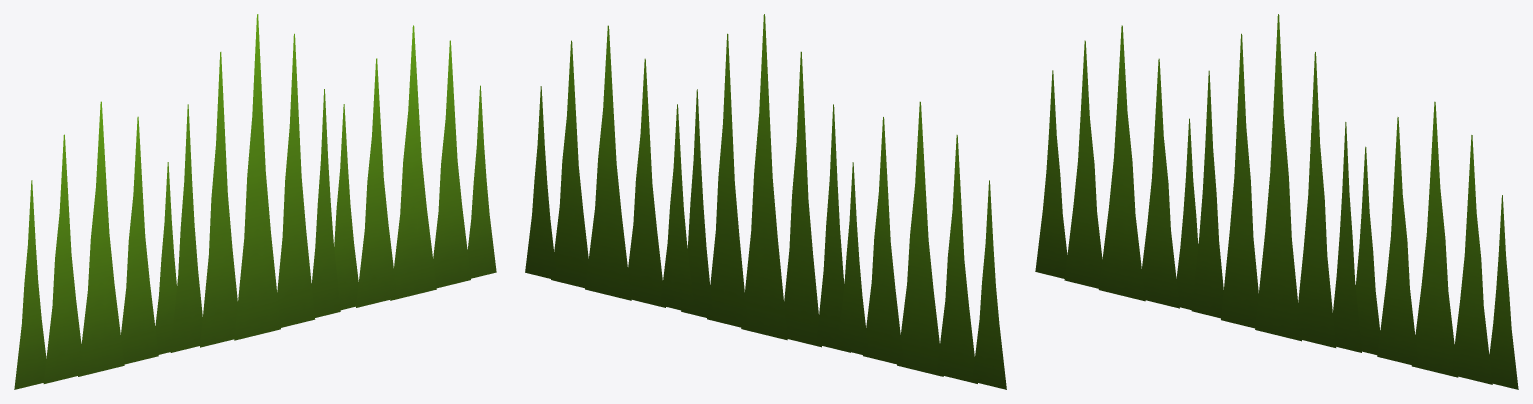
Rendered from Grass type 1.glb.
3 renders of one model, left to right at view 1: azimuth 30°, elevation 25°; view 2: azimuth 150°, elevation 25°; view 3: azimuth 330°, elevation 25°, orthographic.
Visible parts, largest first — view 1: Plane.001; view 2: Plane.001; view 3: Plane.001.
Boxes of the visible parts, bbox=[...] form: Plane.001: bbox=[14, 14, 496, 389]; Plane.001: bbox=[525, 14, 1006, 389]; Plane.001: bbox=[1035, 14, 1518, 389].
Size of the model in its own units: 0.7451 by 0.4737 by 0.00325.
Materials: 1 (1 with a texture image).
